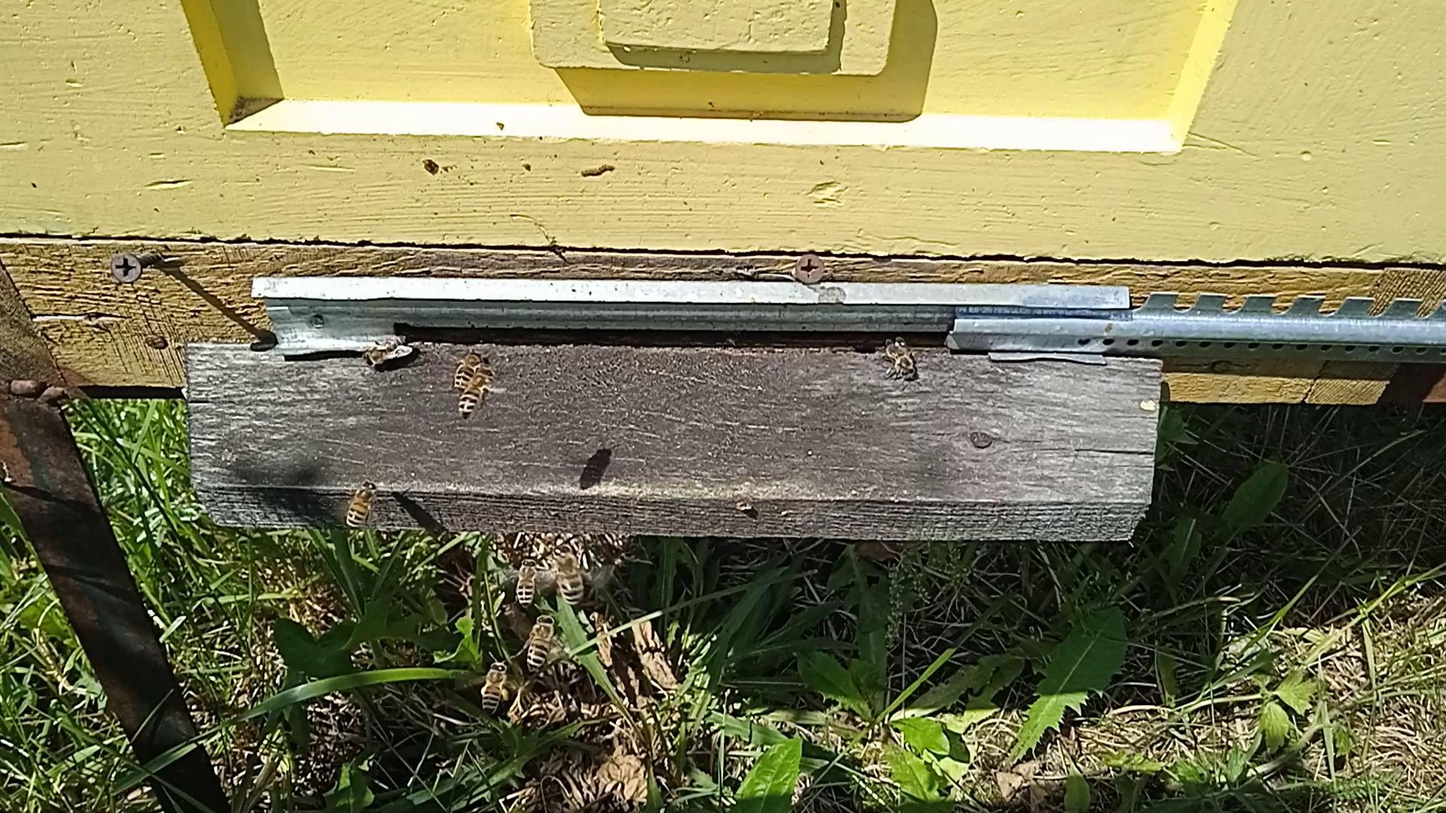worker-bee: (549, 542, 586, 608), (455, 365, 496, 419), (880, 335, 918, 384), (525, 614, 557, 670), (479, 660, 509, 716), (345, 480, 379, 529), (362, 332, 410, 366), (514, 557, 540, 607), (453, 351, 486, 390)
